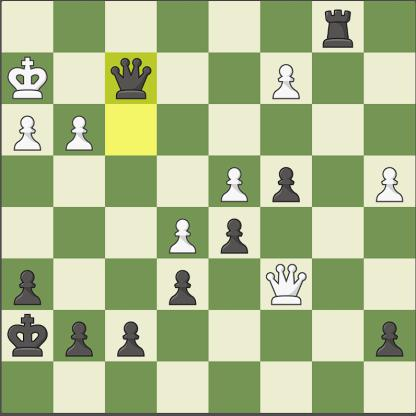Black Castle: (315, 7, 362, 51)
Black King: (3, 312, 50, 360)
Black Pawn: (261, 159, 305, 205), (157, 262, 200, 309), (214, 210, 253, 256), (8, 266, 48, 308), (370, 316, 410, 358), (113, 315, 147, 360), (63, 316, 95, 358)
Black Queen: (108, 54, 154, 102)
White King: (5, 54, 50, 103)
White Pawn: (160, 210, 203, 258), (370, 161, 411, 205), (214, 161, 254, 205), (268, 57, 305, 102), (61, 110, 98, 154), (10, 109, 46, 154)
White Queen: (262, 260, 309, 309)
